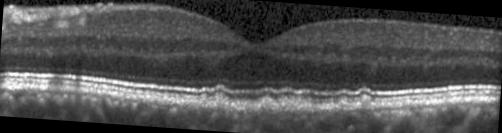retinal_drusen: (209, 91, 230, 110), (261, 95, 279, 114), (360, 93, 373, 109), (338, 95, 351, 110), (199, 93, 209, 103)
